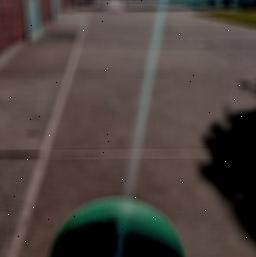algae: (44, 193, 190, 257)
